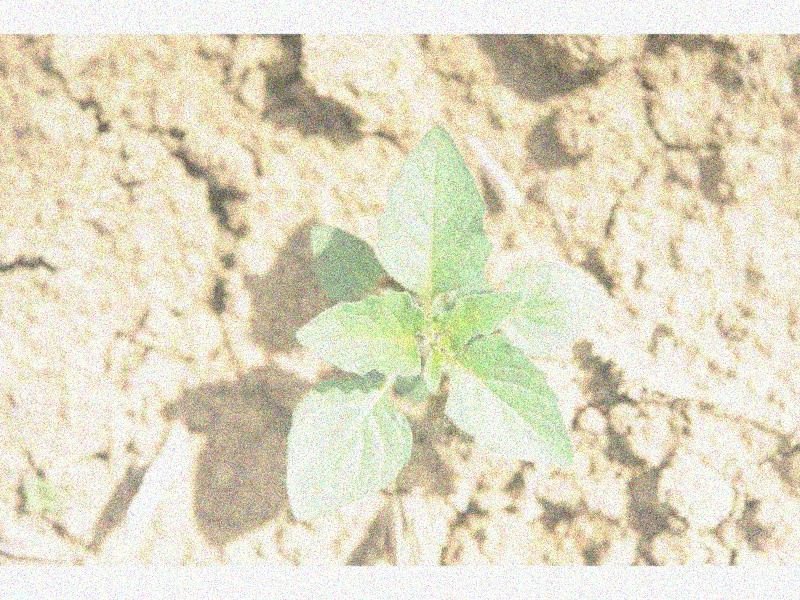nightshade: (284, 123, 601, 521)
